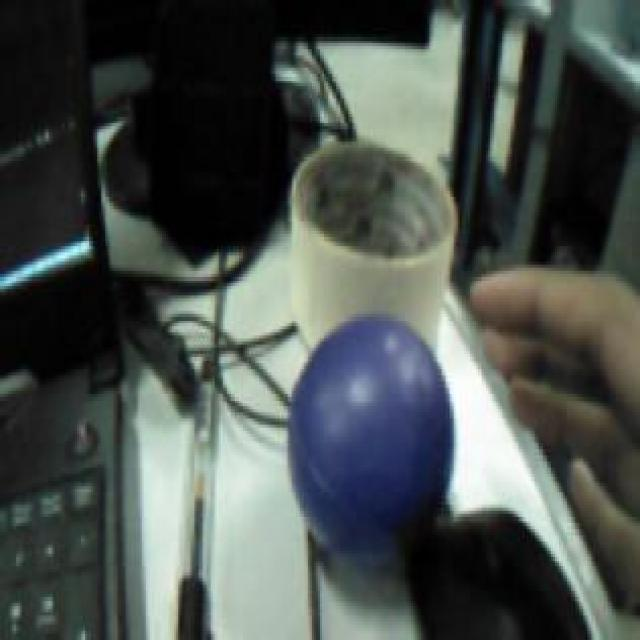BallPurple: (282, 314, 455, 566)
